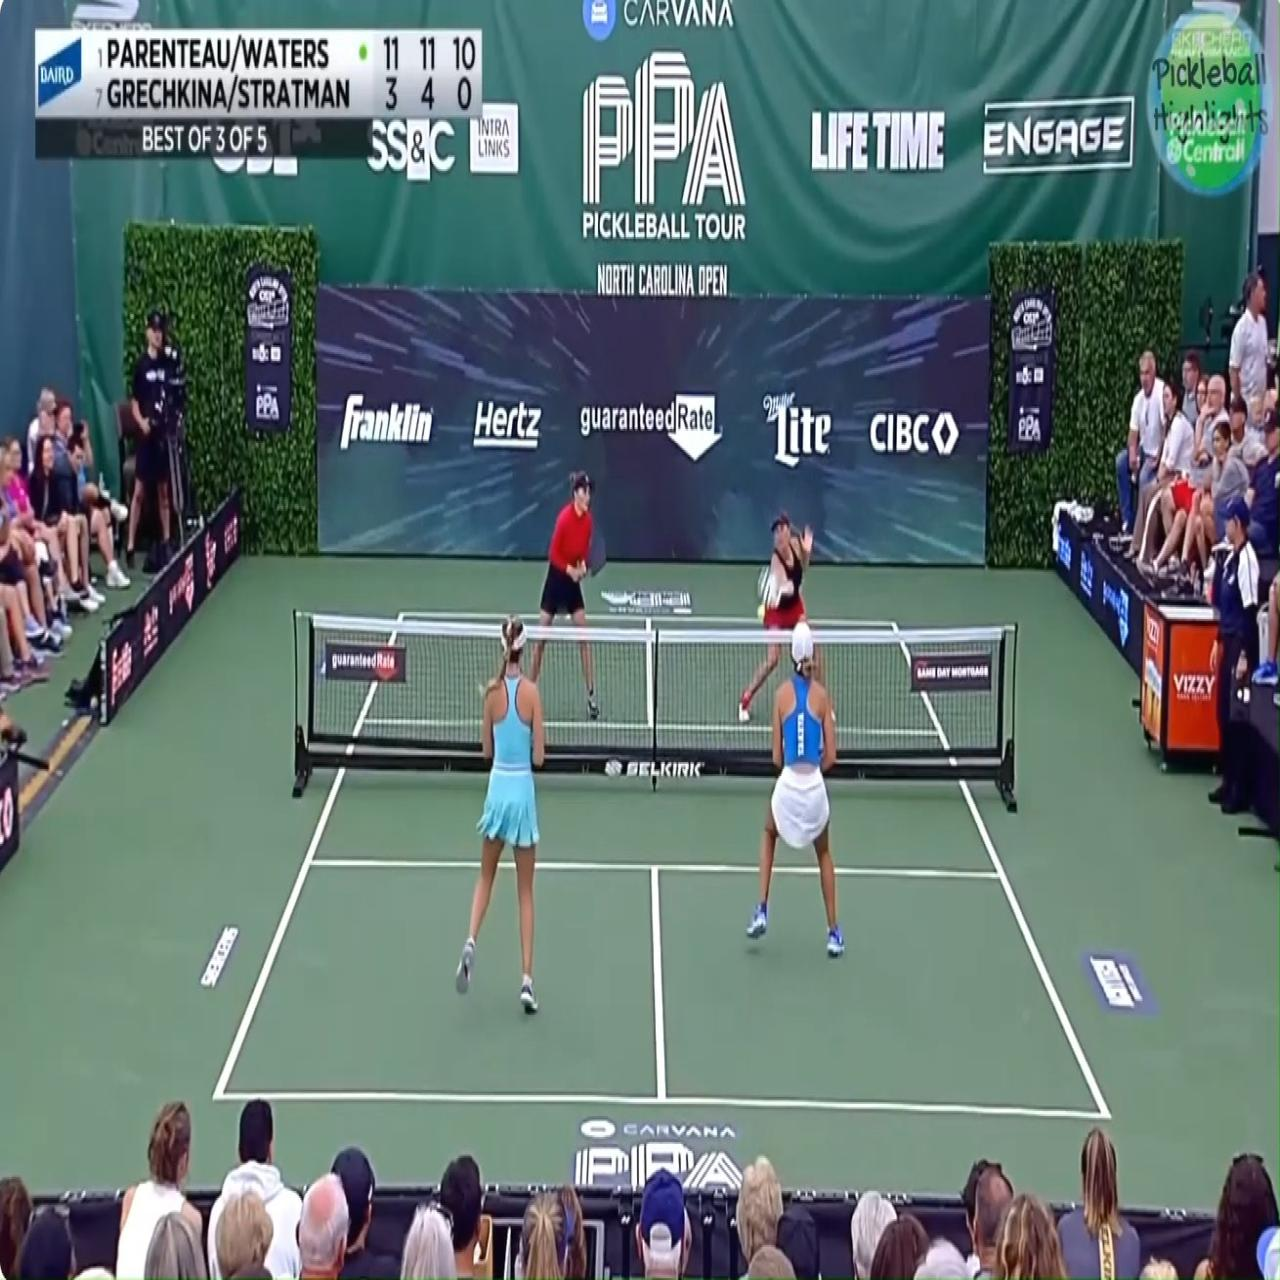pickleball: (757, 604, 765, 620)
